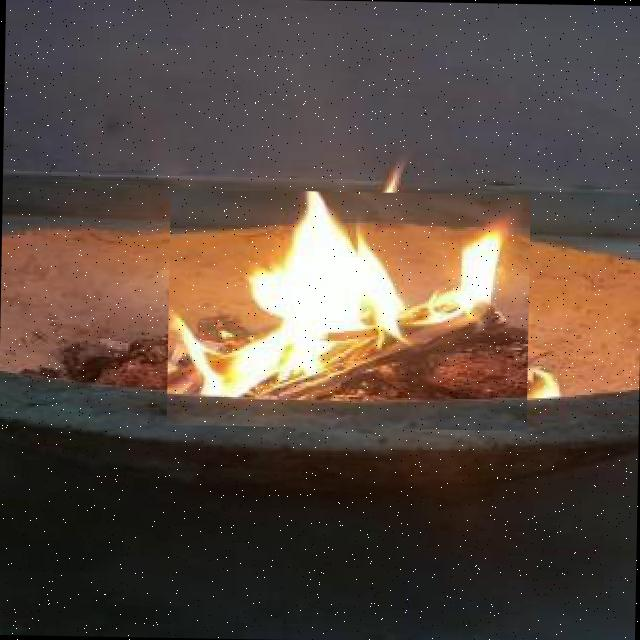fire: (166, 188, 530, 430)
